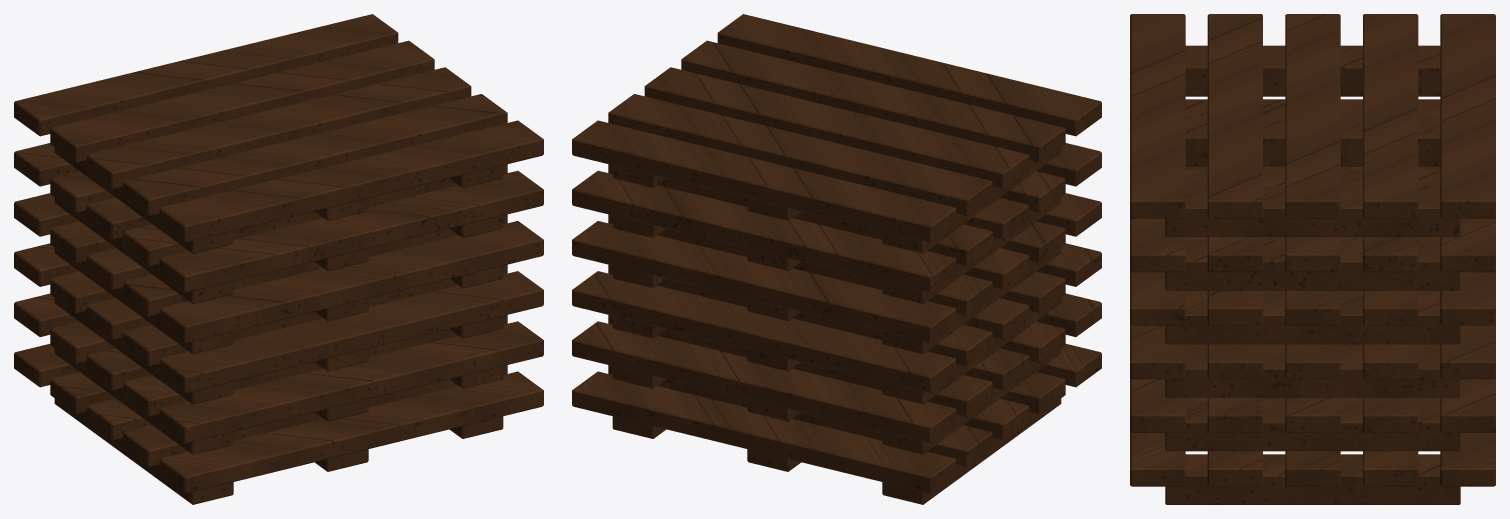
The model's file is PROP-F4DA946D6EB2_lod1.glb.
3 views of the same model, side by side, from view 1: azimuth 30°, elevation 25°; view 2: azimuth 150°, elevation 25°; view 3: azimuth 270°, elevation 25° (orthographic). The views are drawn at different scales.
Parts seen in each view (by area): view 1: pallet_deck.002, pallet_feet.002; view 2: pallet_deck.002, pallet_feet.002; view 3: pallet_deck.002, pallet_feet.002.
Part boxes in pixels (x1,y1,x2,y2): pallet_deck.002: (14,14,543,493); pallet_feet.002: (54,147,503,504); pallet_deck.002: (572,14,1101,493); pallet_feet.002: (612,147,1061,504); pallet_deck.002: (1130,14,1495,486); pallet_feet.002: (1165,45,1460,504).
Size of the model in its own units: 1.2 by 0.9475 by 0.99.
1 material, 1 textured.
